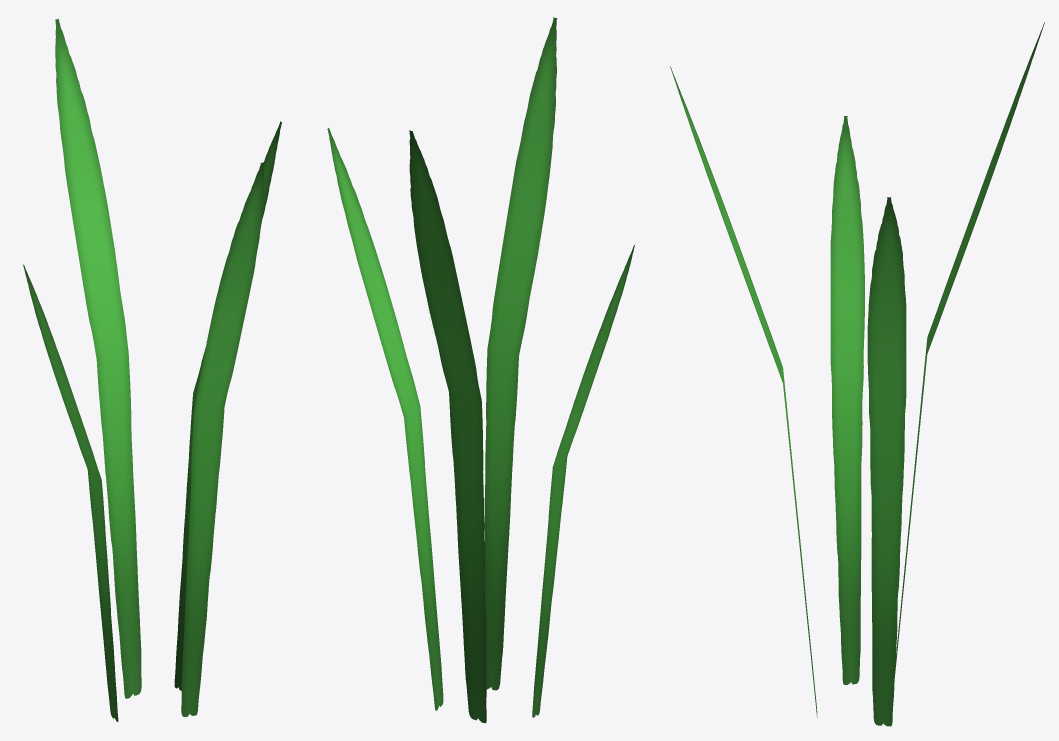
Rendered from Grass_group_small_01.fbx.
3 renders of one model, left to right at view 1: azimuth 30°, elevation 25°; view 2: azimuth 150°, elevation 25°; view 3: azimuth 270°, elevation 25°, orthographic. The views are drawn at different scales.
Visible parts, largest first — view 1: Grass Green Group Small; view 2: Grass Green Group Small; view 3: Grass Green Group Small.
Part boxes in pixels (<box>): Grass Green Group Small: <box>23,19,281,721</box>; Grass Green Group Small: <box>327,17,634,723</box>; Grass Green Group Small: <box>670,22,1044,726</box>.
Bounding box in the file's own units: 13.23 × 12.26 × 26.48.
